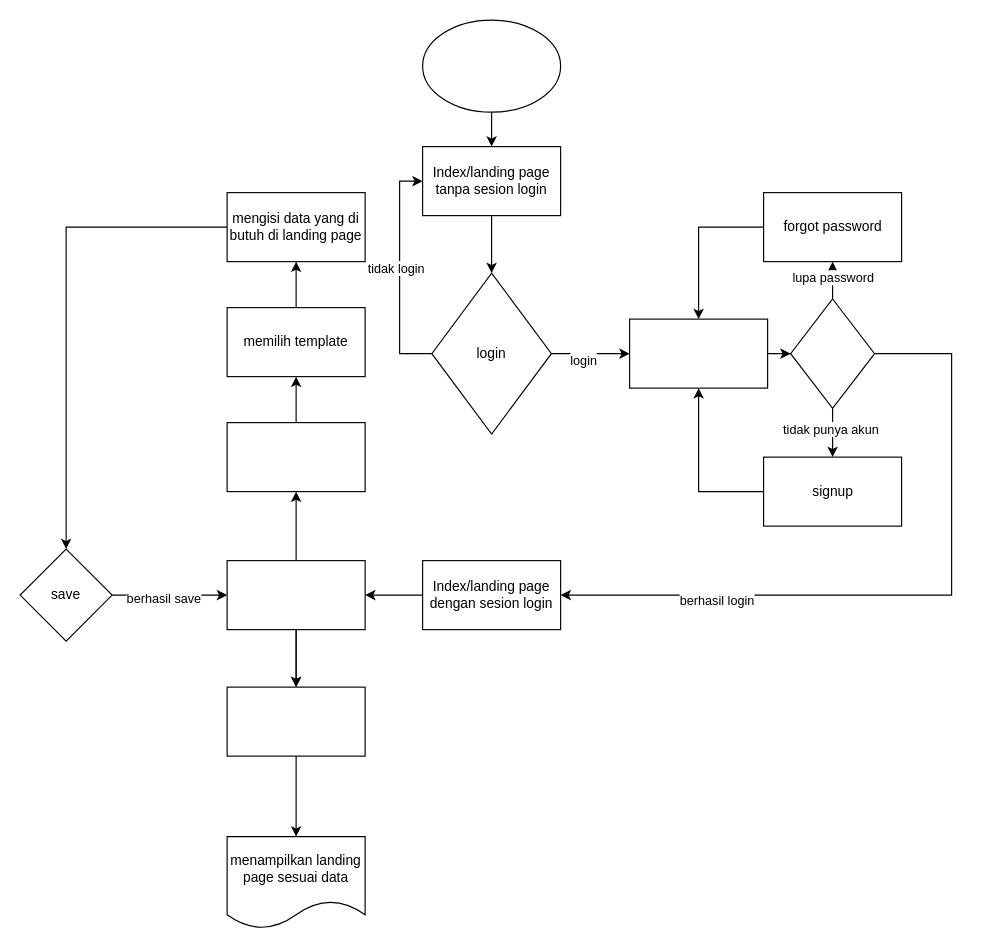
Some shapes in this 981 by 949 pixel diagram are drawn without their labels. Here are the shapes that lost their labels. From the top down, the centre of each, then its label:
At (x=491, y=65): "start".
At (x=698, y=353): "login page".
At (x=295, y=456): "Membuat landing page profile baru".
At (x=295, y=594): "Dashboard Admin".
At (x=295, y=721): "list data landing page".
